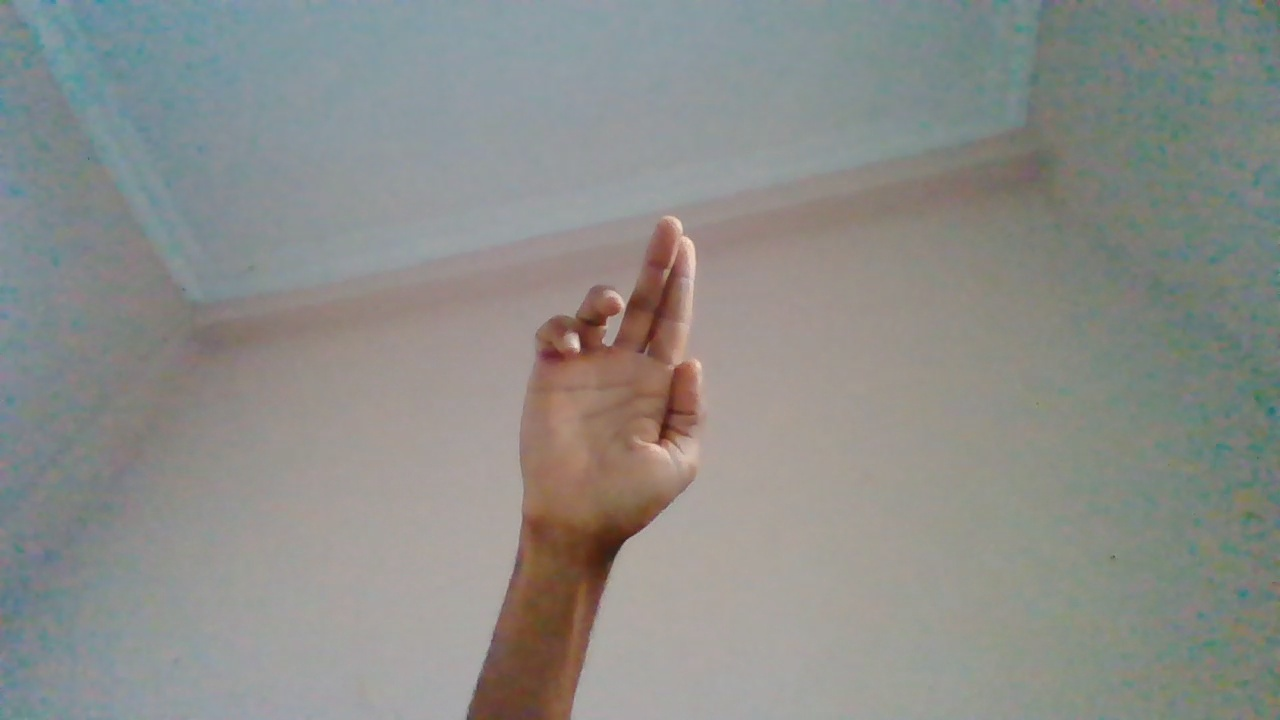gne: (517, 211, 706, 640)
